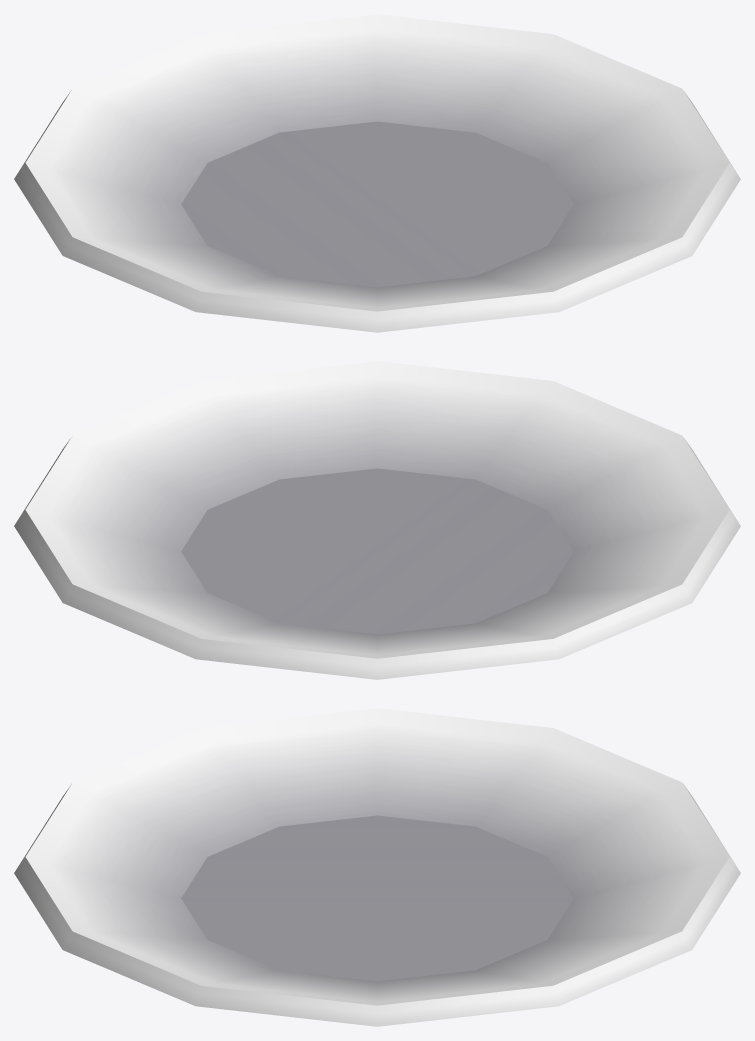
Rendered from m_Plate01.fbx.
3 views of the same model, one above another, from view 1: azimuth 30°, elevation 25°; view 2: azimuth 150°, elevation 25°; view 3: azimuth 270°, elevation 25° (orthographic).
Visible parts, largest first — view 1: m_Plate01; view 2: m_Plate01; view 3: m_Plate01.
Boxes of the visible parts, x1=… form: m_Plate01: x1=14, y1=14, x2=740, y2=332; m_Plate01: x1=14, y1=361, x2=740, y2=679; m_Plate01: x1=14, y1=708, x2=740, y2=1026.
Bounding box in the file's own units: 25.92 × 2.39 × 25.92.
